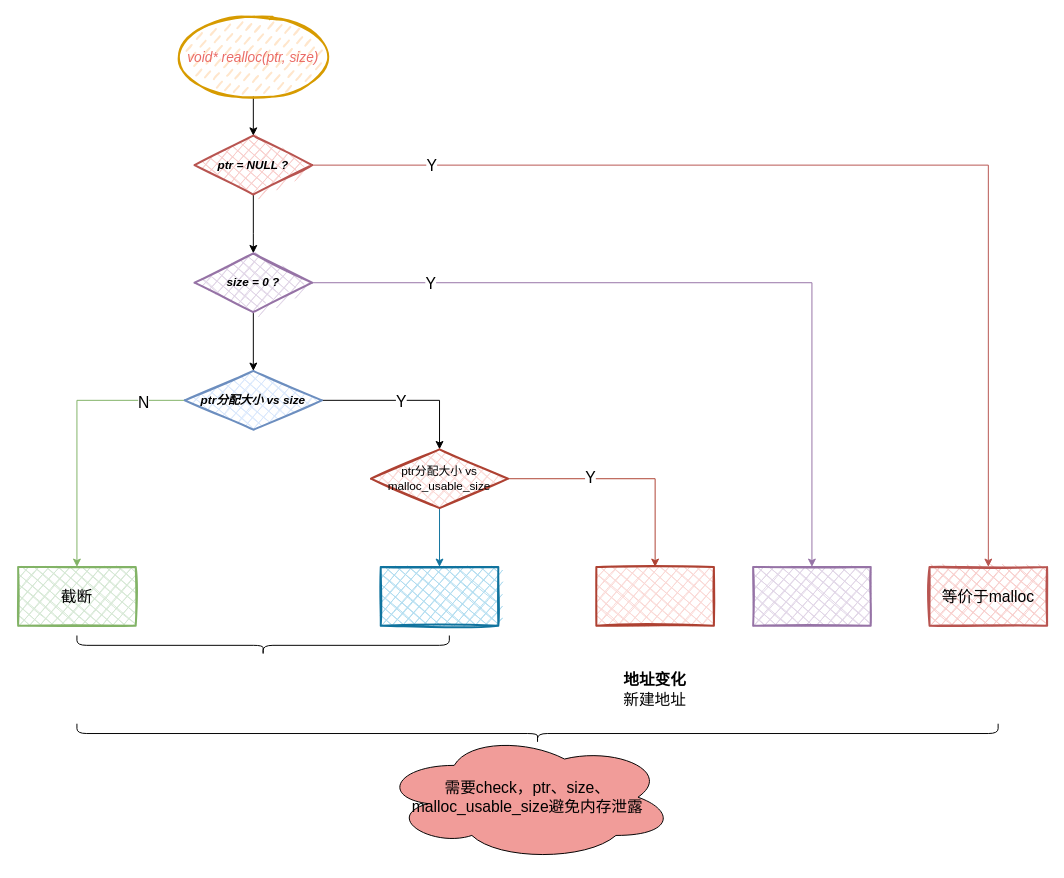
Some shapes in this 1064 by 878 pixel diagram are drawn without their labels. The shapes that lost their labels are listed below. From the top down, each one's centre as x and y in pixels, then its label:
At (439,595): "直接在原内存块后面扩充内存".
At (654,595): "1.额外分配更大内存 2.拷贝到新分配的内存中 3.释放原内存空间".
At (811,595): "等价于free".
At (262,645): "地址不变 在原地址上修改".
